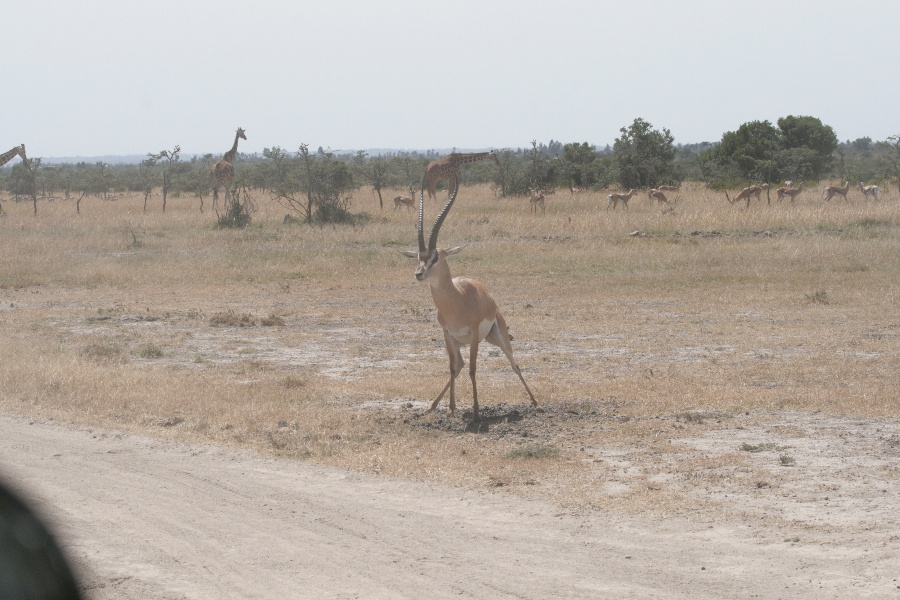giraffe: (194, 119, 258, 222), (414, 146, 504, 210)
